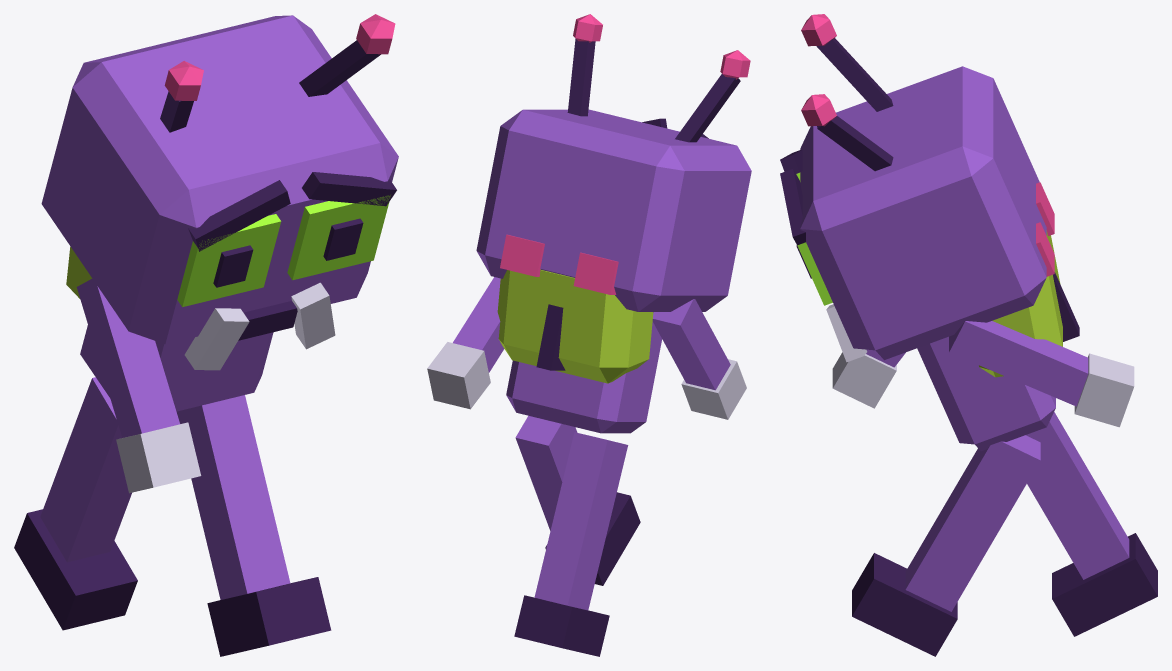
The model's file is scout_r11.glb.
3 renders of one model, left to right at view 1: azimuth 30°, elevation 25°; view 2: azimuth 150°, elevation 25°; view 3: azimuth 270°, elevation 25°, orthographic. The views are drawn at different scales.
Visible parts, largest first — view 1: scout_r11_mesh; view 2: scout_r11_mesh; view 3: scout_r11_mesh.
Boxes of the visible parts, x1,y1,x2,y2 form: scout_r11_mesh: (14,14,398,656); scout_r11_mesh: (427,14,751,656); scout_r11_mesh: (780,14,1157,656).
Bounding box in the file's own units: 0.4403 × 1.2 × 0.7026.
Materials: 1 (1 with a texture image).
